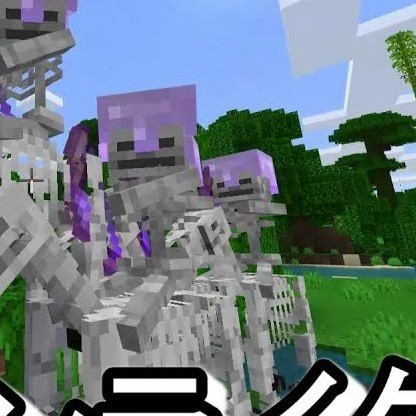skeleton: (86, 80, 211, 224)
